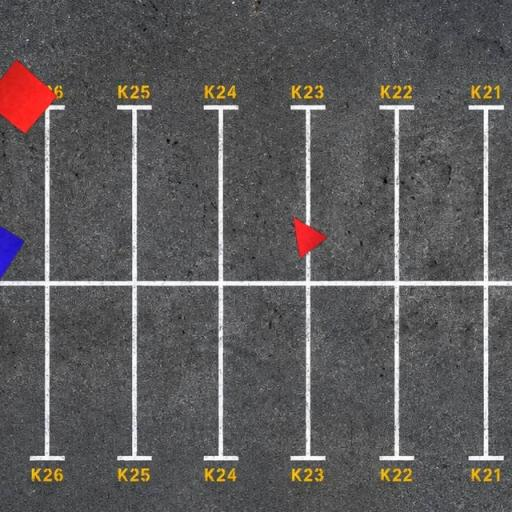RED_SQUARE: (0, 58, 58, 134)
